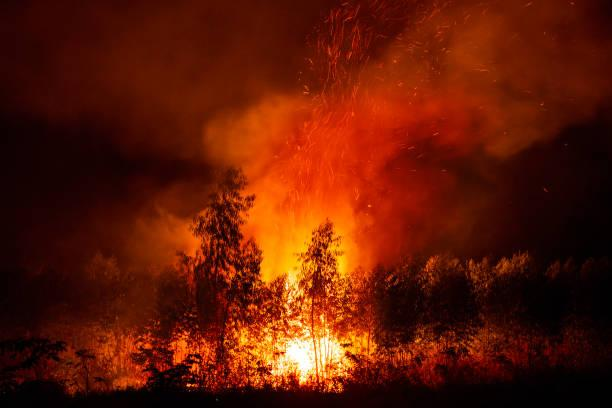Fire: (292, 336, 334, 374)
